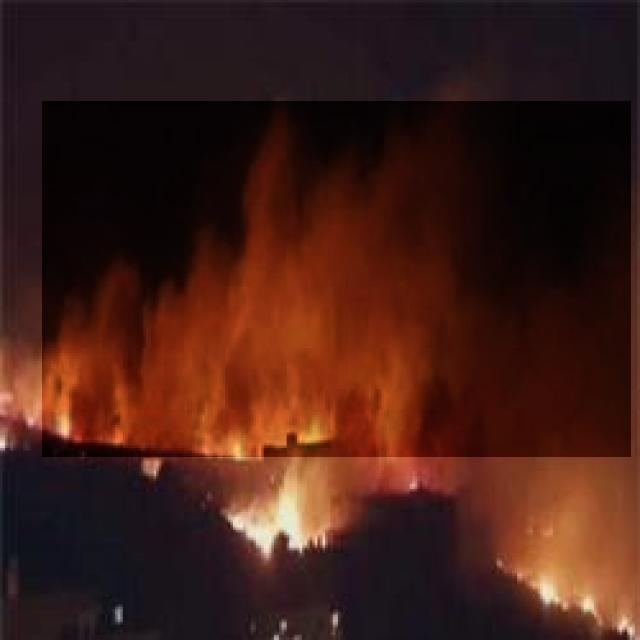Fire: (240, 476, 315, 562)
Smoke: (42, 101, 631, 457)
